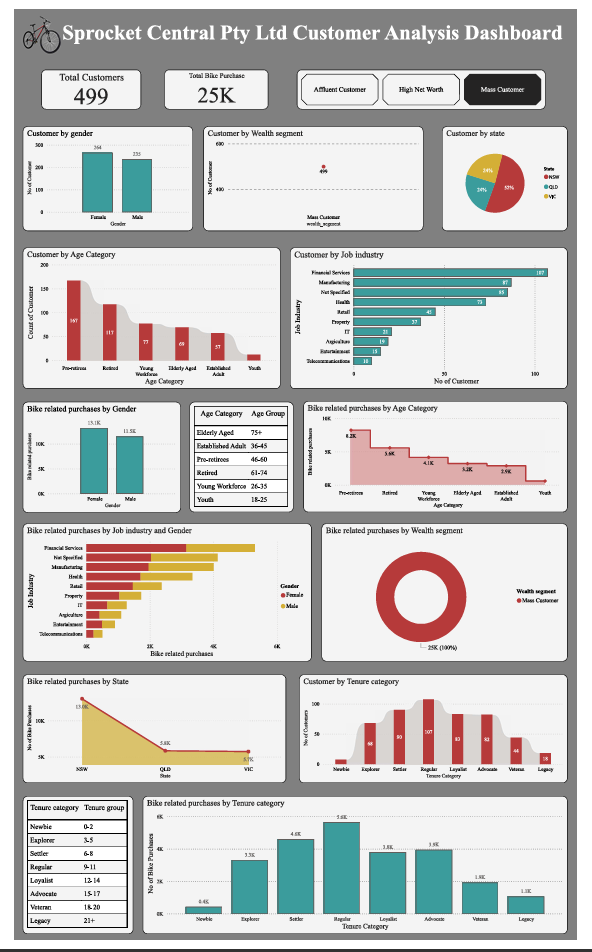

What the dashboard file says about the page in this screenshot:
{"tool":"powerbi","page":{"name":"Complete","canvas":[1300,2150],"ordinal":4},"visuals":[{"type":"pieChart","title":"Customer by state","fields":{"Y":["Count(Cleaning.Customer )"],"Category":["Cleaning.state"]},"box":[988.3,270,290,241.7],"z":0},{"type":"clusteredColumnChart","title":"Customer by gender","fields":{"Category":["Cleaning.gender"],"Y":["CountNonNull(Cleaning.Customer )","CountNonNull(Cleaning.Customer )"]},"box":[20,270,393.3,241.7],"z":1000},{"type":"ribbonChart","title":"Customer  by Age Category","fields":{"Category":["Cleaning.Age Category"],"Y":["Count(Cleaning.Customer )"]},"box":[20,550,595,326.7],"z":2000},{"type":"areaChart","title":"Customer by Wealth segment","fields":{"Category":["Cleaning.wealth_segment"],"Y":["Count(Cleaning.Customer )"]},"box":[436.7,270,508.3,241.7],"z":3000},{"type":"clusteredBarChart","title":"Customer  by Job industry","fields":{"Category":["Cleaning.job_industry_category"],"Y":["Count(Cleaning.Customer )"]},"box":[636.7,550,641.7,326.7],"z":4000},{"type":"donutChart","title":"Bike related purchases by Wealth segment","fields":{"Category":["Cleaning.wealth_segment"],"Y":["Sum(Cleaning.past_3_years_bike_related_purchases)"]},"box":[710,1188.3,568.3,318.3],"z":5000},{"type":"stackedAreaChart","title":"Bike related purchases by Age Category","fields":{"Category":["Cleaning.Age Category"],"Y":["Sum(Cleaning.past_3_years_bike_related_purchases)"]},"box":[668.3,905,610,256.7],"z":6000},{"type":"columnChart","title":"Bike related purchases by Gender","fields":{"Category":["Cleaning.gender"],"Y":["Sum(Cleaning.past_3_years_bike_related_purchases)"]},"box":[20,906.7,365,256.7],"z":7000},{"type":"barChart","title":"Bike related purchases by Job industry and Gender","fields":{"Category":["Cleaning.job_industry_category"],"Y":["Sum(Cleaning.past_3_years_bike_related_purchases)"],"Series":["Cleaning.gender"]},"box":[20,1188.3,666.7,318.3],"z":8000},{"type":"areaChart","title":"Bike related purchases by State","fields":{"Category":["Cleaning.state"],"Y":["Sum(Cleaning.past_3_years_bike_related_purchases)"]},"box":[20,1536.7,608.3,251.7],"z":9000},{"type":"clusteredColumnChart","title":"Bike related purchases by Tenure category","fields":{"Category":["Cleaning.Tenure category"],"Y":["Sum(Cleaning.past_3_years_bike_related_purchases)"]},"box":[296.7,1818.3,981.7,318.3],"z":10000},{"type":"ribbonChart","title":"Customer  by Tenure category","fields":{"Y":["Count(Cleaning.Customer )"],"Category":["Cleaning.Tenure category"]},"box":[658.3,1536.7,620,251.7],"z":11000},{"type":"tableEx","fields":{"Values":["Cleaning.Age Category","Cleaning.Age Group"]},"box":[405,906.7,240,255],"z":12000},{"type":"tableEx","fields":{"Values":["Cleaning.Tenure category","Cleaning.Tenure group"]},"box":[20,1818.3,255,318.3],"z":13000},{"type":"advancedSlicerVisual","fields":{"Values":["Cleaning.wealth_segment"]},"box":[653.3,139.3,574,92],"z":14000},{"type":"card","title":"Total Customers","fields":{"Values":["Count(Cleaning.Customer )"]},"box":[63.3,139.3,230,92],"z":15000},{"type":"card","title":"Total Bike Purchase","fields":{"Values":["Sum(Cleaning.past_3_years_bike_related_purchases)"]},"box":[347.3,139.3,240,92],"z":16000},{"type":"textbox","box":[78.3,20,1221.7,81.7],"z":17000},{"type":"image","box":[13.3,10,100,103.3],"z":18000}]}

Visuals, with their boxes in screenshot pixels (x1, y1, x2, y2), scaled from the page's 1300x2150 canvas onto the 592x952 screenshot:
"Customer by state" pieChart: 450/120/582/227
"Customer by gender" clusteredColumnChart: 9/120/188/227
"Customer  by Age Category" ribbonChart: 9/244/280/388
"Customer by Wealth segment" areaChart: 199/120/430/227
"Customer  by Job industry" clusteredBarChart: 290/244/582/388
"Bike related purchases by Wealth segment" donutChart: 323/526/582/667
"Bike related purchases by Age Category" stackedAreaChart: 304/401/582/514
"Bike related purchases by Gender" columnChart: 9/401/175/515
"Bike related purchases by Job industry and Gender" barChart: 9/526/313/667
"Bike related purchases by State" areaChart: 9/680/286/792
"Bike related purchases by Tenure category" clusteredColumnChart: 135/805/582/946
"Customer  by Tenure category" ribbonChart: 300/680/582/792
tableEx - Cleaning.Age Category x Cleaning.Age Group: 184/401/294/514
tableEx - Cleaning.Tenure category x Cleaning.Tenure group: 9/805/125/946
advancedSlicerVisual - Cleaning.wealth_segment: 298/62/559/102
"Total Customers" card: 29/62/134/102
"Total Bike Purchase" card: 158/62/267/102
textbox: 36/9/591/45
image: 6/4/52/50
